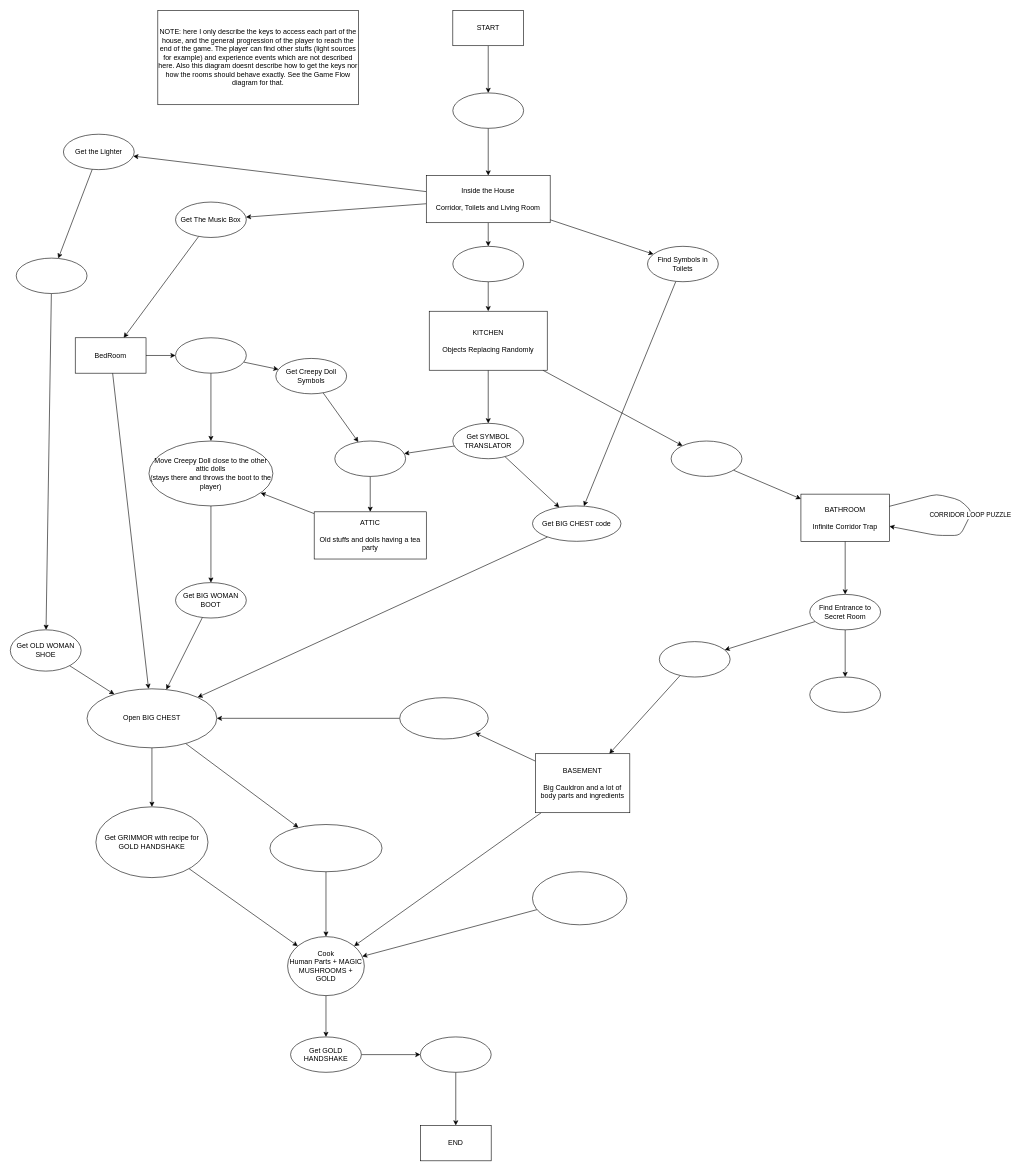
Some shapes in this 1021 by 1171 pixel diagram are drawn without their labels. Here are the shapes that lost their labels. From the top down, the centre of each, then its label:
At point 488,110: "Find House Key".
At point 51,276: "Mouth/Eye Puzzle".
At point 488,264: "Get KITCHEN KEY".
At point 210,355: "Creepy Doll Follows You".
At point 370,458: "Get Attic Code".
At point 706,458: "Get WEIRD KNOB".
At point 694,659: "Basement Key".
At point 845,694: "Exit to the Corridor (end of the trap)".
At point 443,718: "Get OLD SPORT SHOES".
At point 325,848: "Get GOLD BAR (or another goldobject)".
At point 579,898: "Get MAGIC MUSHROOM (in the forest)".
At point 455,1054: "Open the TOOLSCHED".
